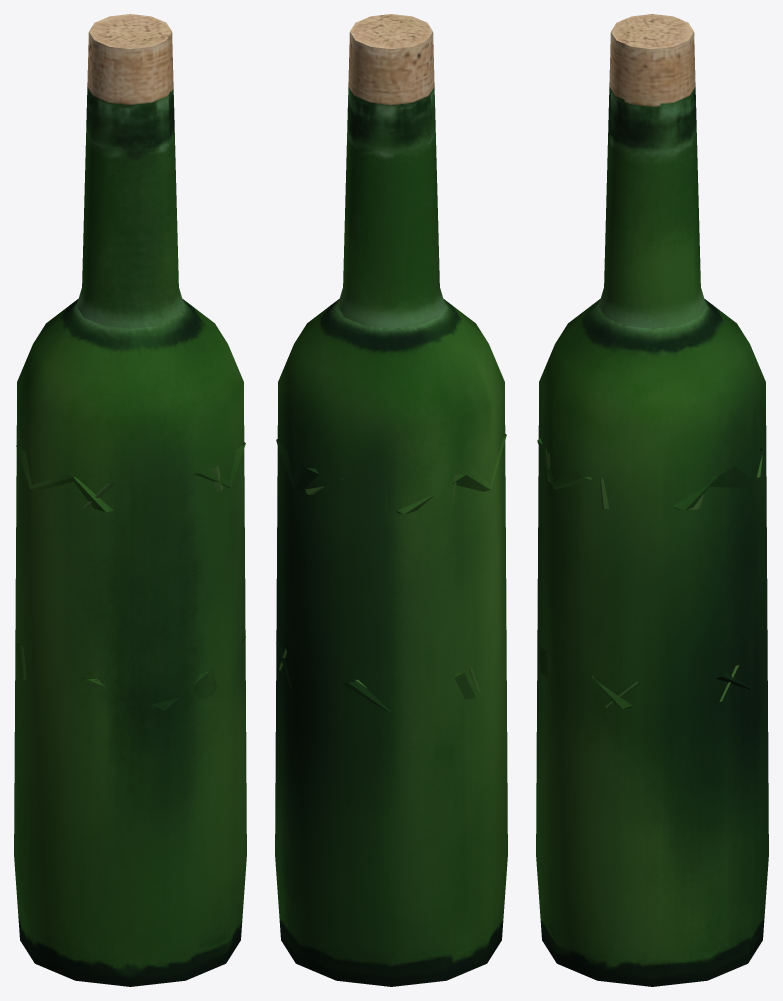
Rendered from bottle_lod0.glb.
The picture shows the model from 3 angles, left to right: view 1: azimuth 30°, elevation 25°; view 2: azimuth 150°, elevation 25°; view 3: azimuth 270°, elevation 25°; orthographic projection.
Parts seen in each view (by area): view 1: low; view 2: low; view 3: low.
Boxes of the visible parts, box(x1,y1,x2,y2) form: low: box(14, 14, 246, 986); low: box(275, 14, 507, 986); low: box(536, 14, 768, 986).
Bounding box in the file's own units: 0.151 × 0.6498 × 0.151.
1 material, 1 textured.
